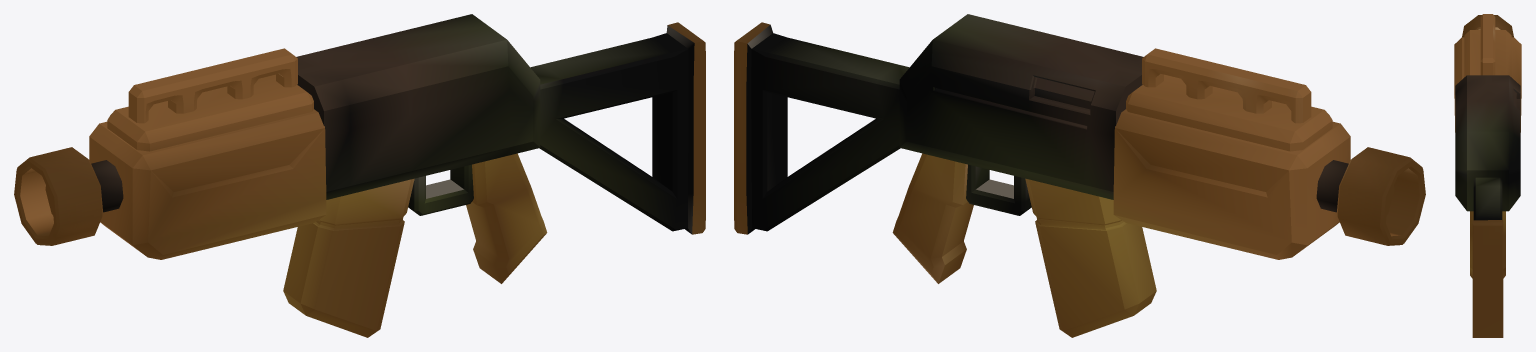
The model's file is Shotgun.fbx.
3 views of the same model, side by side, from view 1: azimuth 30°, elevation 25°; view 2: azimuth 150°, elevation 25°; view 3: azimuth 270°, elevation 25° (orthographic). The views are drawn at different scales.
Visible parts, largest first — view 1: M_AutoShotgun; view 2: M_AutoShotgun; view 3: M_AutoShotgun.
Boxes of the visible parts, x1=… form: M_AutoShotgun: x1=14, y1=14, x2=705, y2=337; M_AutoShotgun: x1=734, y1=14, x2=1425, y2=337; M_AutoShotgun: x1=1454, y1=14, x2=1521, y2=337.
Size of the model in its own units: 124 by 53.49 by 18.23.
